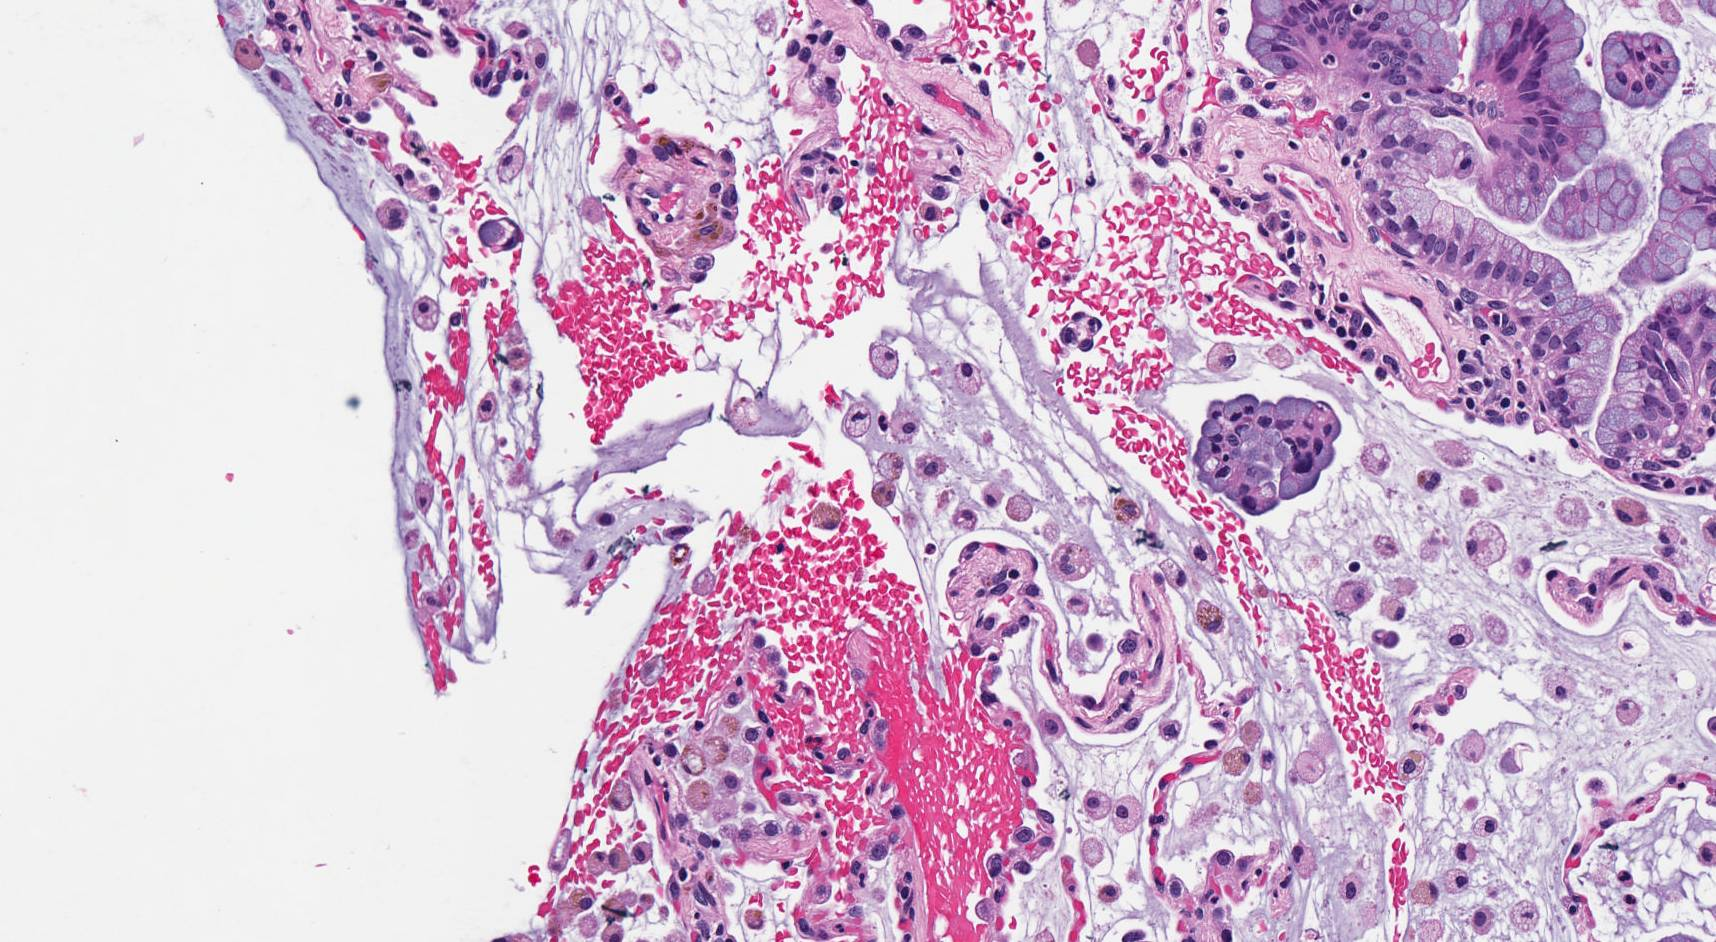stas: (1193, 394, 1344, 517)
